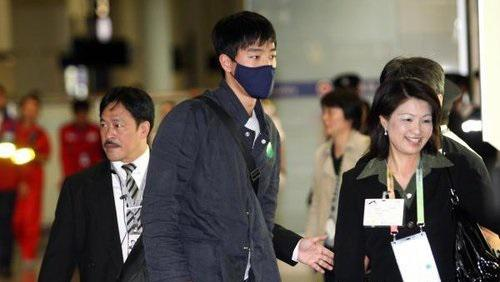NONE: (392, 113, 434, 153), (100, 116, 138, 159), (323, 109, 346, 136)
OK: (227, 46, 281, 100)
